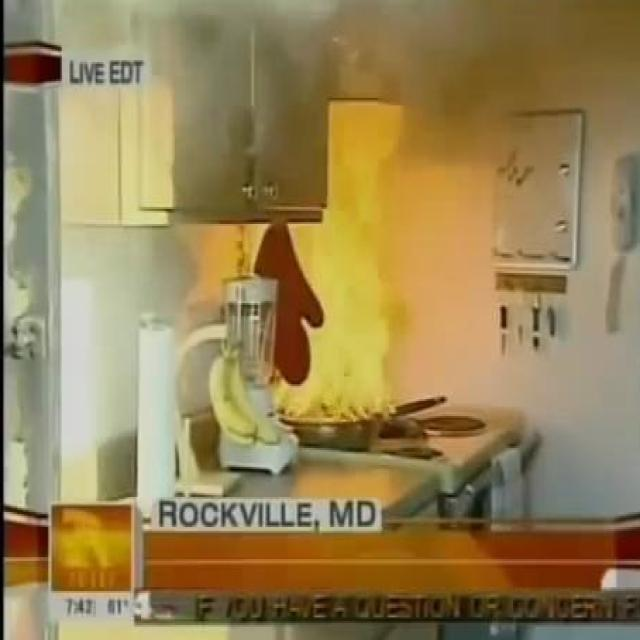fire: (2, 0, 538, 113)
smoke: (234, 104, 420, 424)
